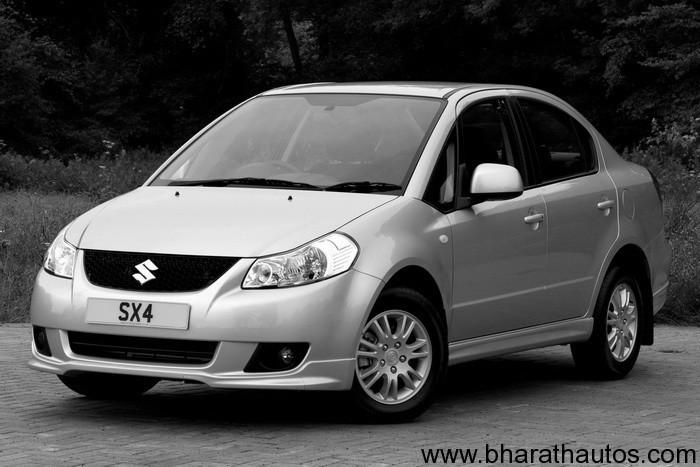car: (31, 72, 670, 426)
